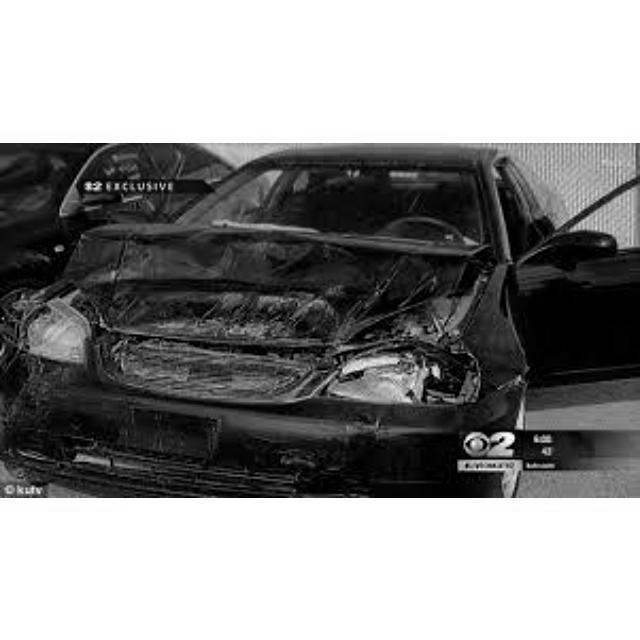Headlight-damage: (330, 340, 480, 412), (11, 283, 104, 382)
bonnet-dent: (100, 212, 486, 356)
